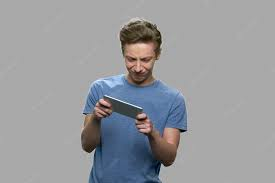playing: (86, 22, 177, 127)
